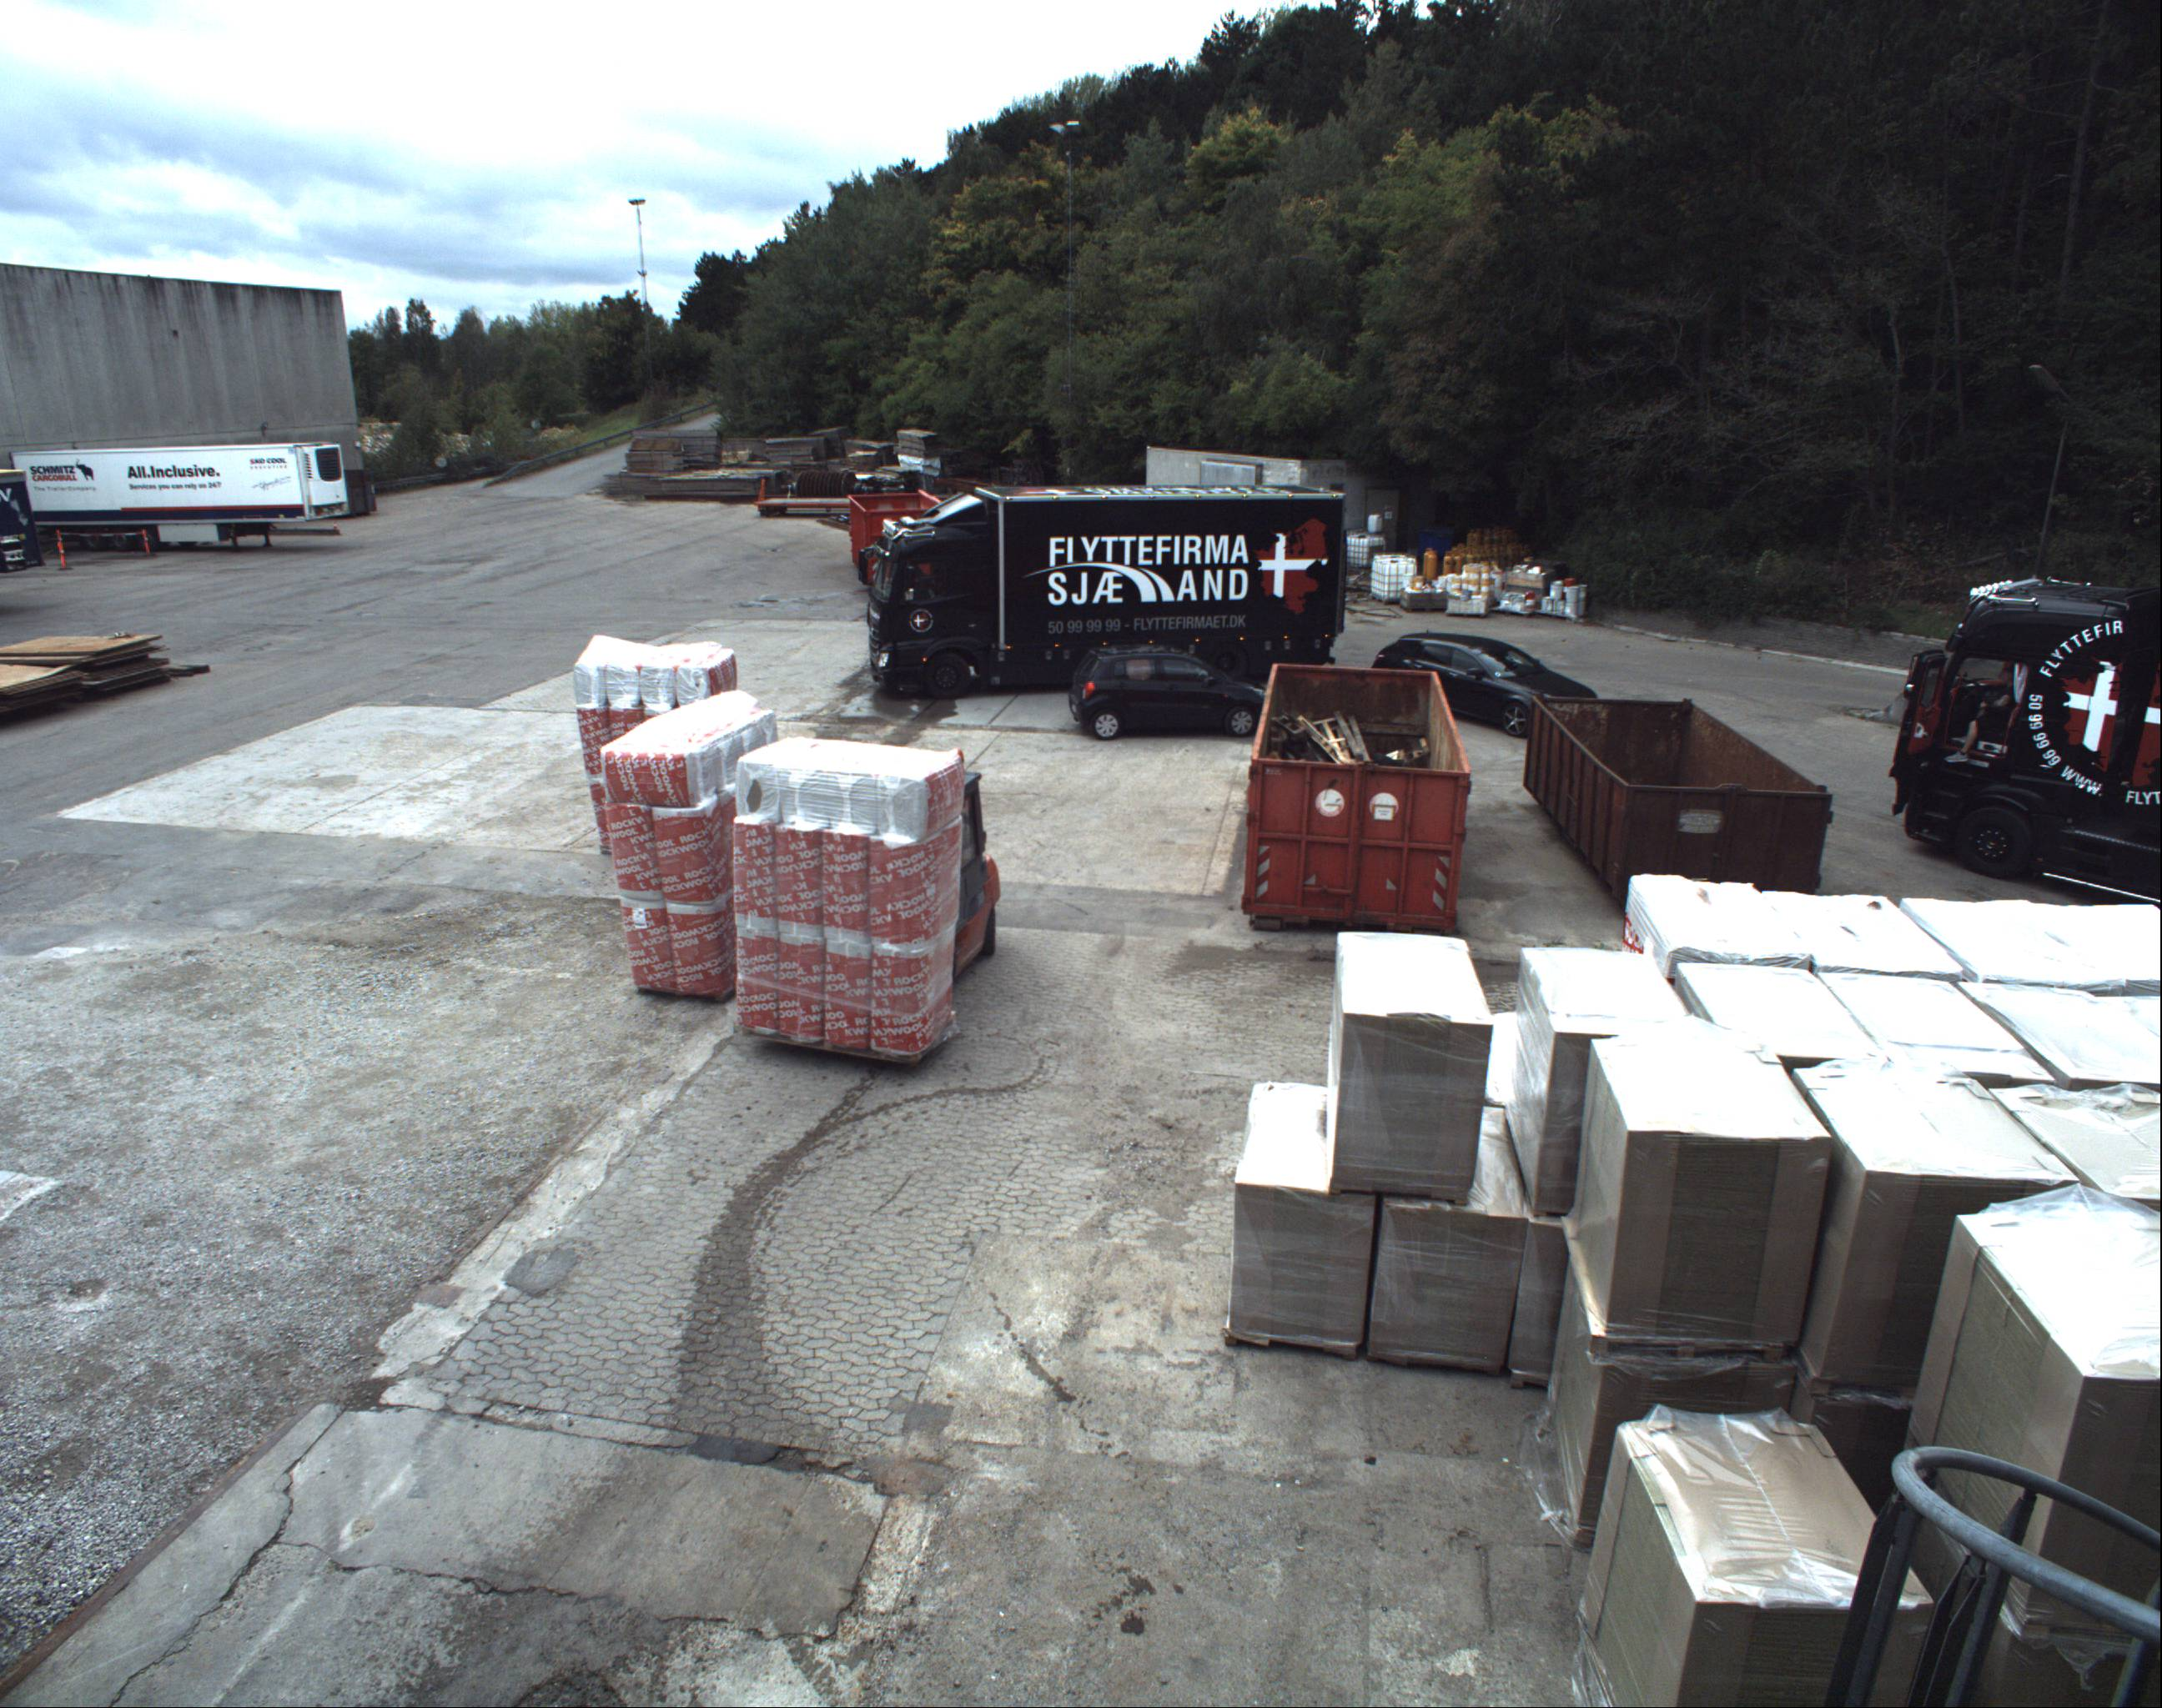rockwool_batts: (742, 721, 953, 1050), (626, 688, 758, 985), (574, 630, 705, 790)
